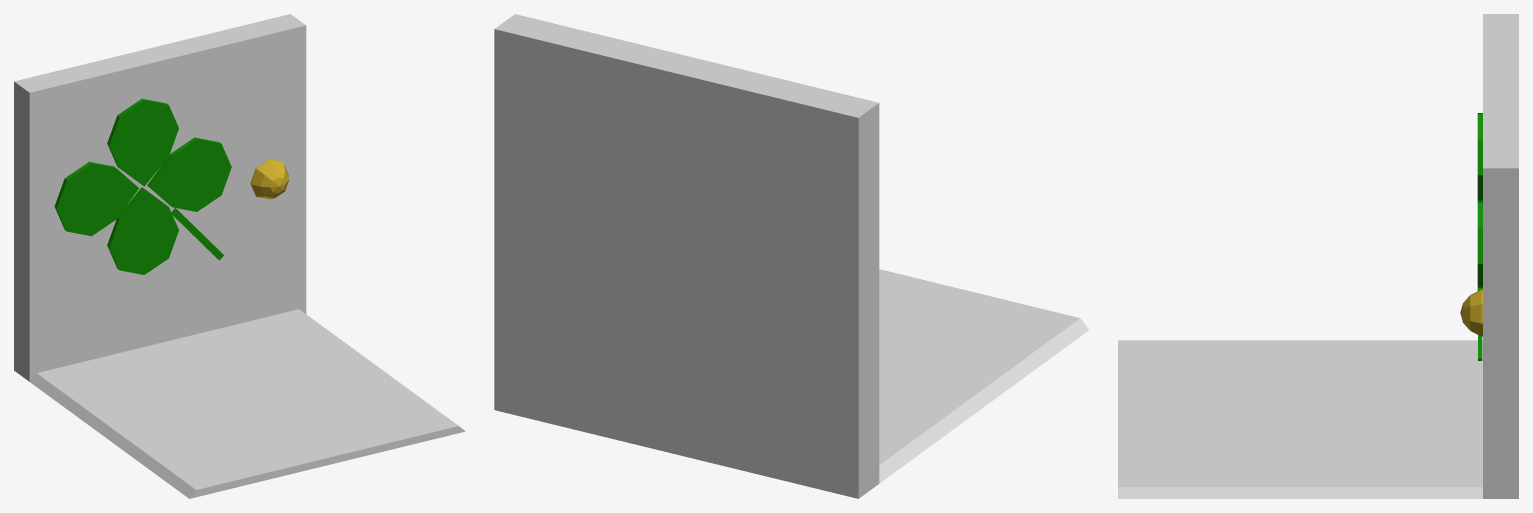
File: wallDoor.fbx
3 views of the same model, side by side, from view 1: azimuth 30°, elevation 25°; view 2: azimuth 150°, elevation 25°; view 3: azimuth 270°, elevation 25° (orthographic). The views are drawn at different scales.
Parts seen in each view (by area): view 1: Door, Base, Frame; view 2: Door, Void, Frame, Base; view 3: Base, Frame, Door.
Part boxes in pixels (<box>): Door: <box>36,34,299,372</box>; Base: <box>30,309,465,498</box>; Frame: <box>14,14,306,381</box>; Door: <box>503,41,849,486</box>; Void: <box>503,42,849,485</box>; Frame: <box>494,14,879,498</box>; Base: <box>879,269,1089,483</box>; Base: <box>1118,340,1482,498</box>; Frame: <box>1483,14,1518,498</box>; Door: <box>1460,113,1482,360</box>.
Size of the model in its own units: 21.59 by 21.59 by 23.72.
